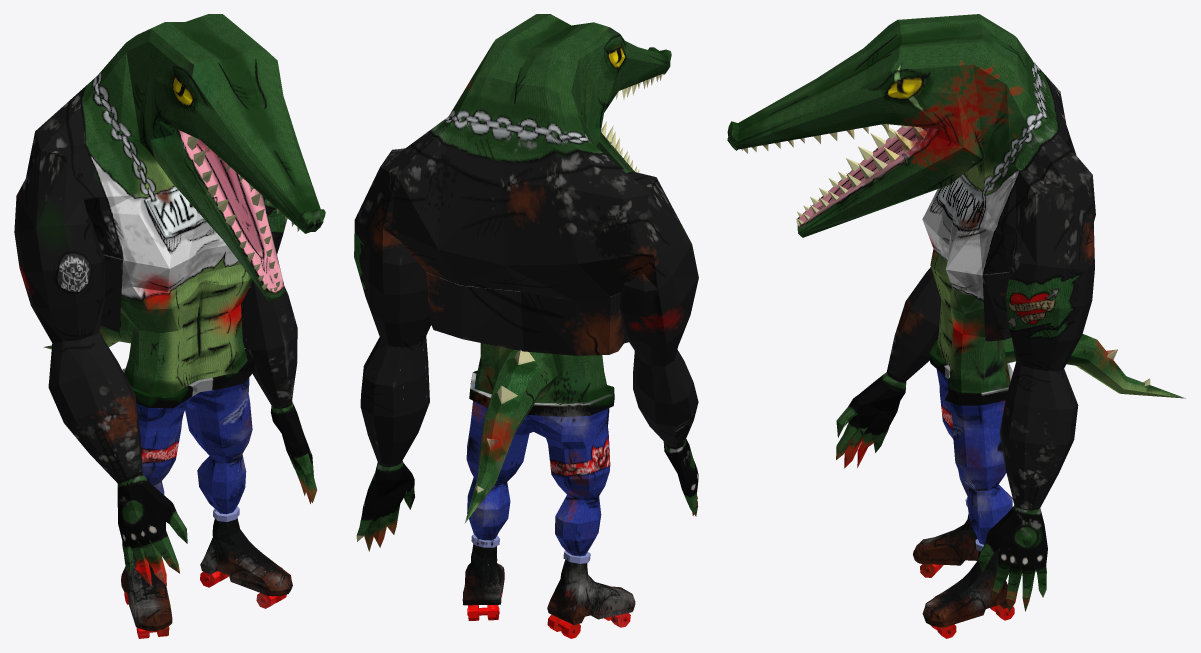
File: cocodrilaBonesSelect_000045.obj
The picture shows the model from 3 angles, left to right: view 1: azimuth 30°, elevation 25°; view 2: azimuth 150°, elevation 25°; view 3: azimuth 270°, elevation 25°; orthographic projection. The views are drawn at different scales.
Parts seen in each view (by area): view 1: Crocodile.002_Cylinder.002; view 2: Crocodile.002_Cylinder.002; view 3: Crocodile.002_Cylinder.002.
Boxes of the visible parts, x1,y1,x2,y2 form: Crocodile.002_Cylinder.002: [14, 14, 325, 638]; Crocodile.002_Cylinder.002: [354, 14, 698, 638]; Crocodile.002_Cylinder.002: [727, 14, 1185, 638].
Size of the model in its own units: 3.59 by 6.72 by 4.88.
